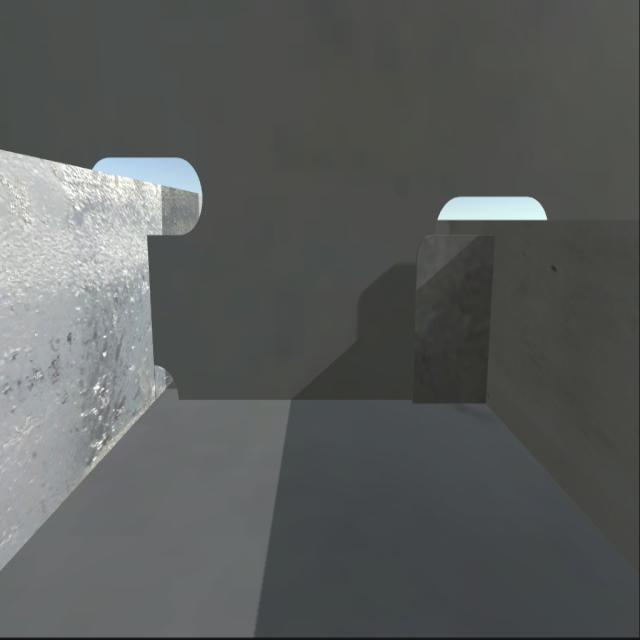fillet_hole: (153, 356, 185, 399)
fillet_yong_jeop_jang: (178, 389, 488, 405)
longi_yong_jeop_jang: (478, 233, 498, 402), (146, 234, 162, 366)
plate_CP05: (409, 235, 492, 402)
